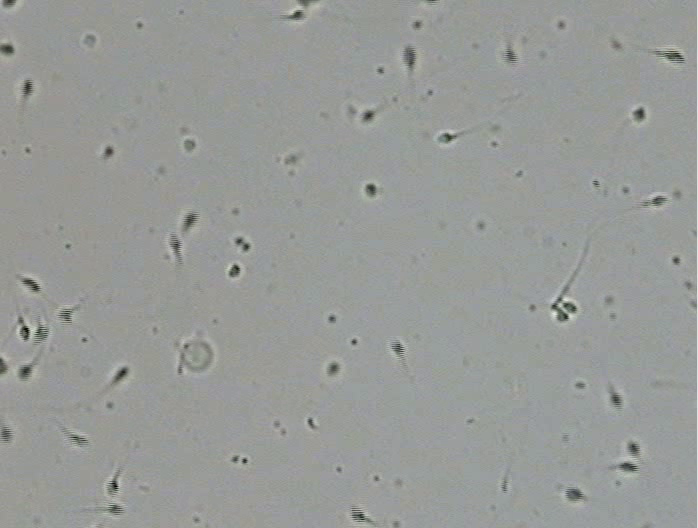Impurity: (181, 340, 214, 371), (83, 34, 96, 48)
S: (659, 49, 685, 63), (402, 45, 417, 68), (33, 325, 49, 345), (21, 278, 41, 293), (564, 486, 584, 501), (57, 307, 74, 324), (350, 505, 366, 523), (169, 233, 183, 253), (503, 48, 519, 65), (183, 210, 198, 228), (391, 339, 406, 357), (20, 78, 34, 97), (106, 479, 120, 498), (69, 434, 89, 447), (626, 441, 640, 459), (106, 503, 125, 515), (619, 461, 638, 473), (17, 365, 32, 380), (113, 367, 127, 383), (609, 391, 622, 408), (19, 325, 31, 343), (632, 107, 646, 122), (1, 426, 14, 442), (651, 195, 668, 207), (228, 263, 241, 278), (360, 110, 375, 123), (289, 10, 306, 21), (562, 301, 577, 313), (437, 133, 453, 144), (1, 43, 15, 55), (365, 183, 376, 198), (1, 357, 9, 375), (327, 363, 339, 375), (556, 310, 569, 321), (184, 140, 195, 151), (2, 1, 16, 9), (104, 146, 114, 157), (296, 1, 313, 6)
